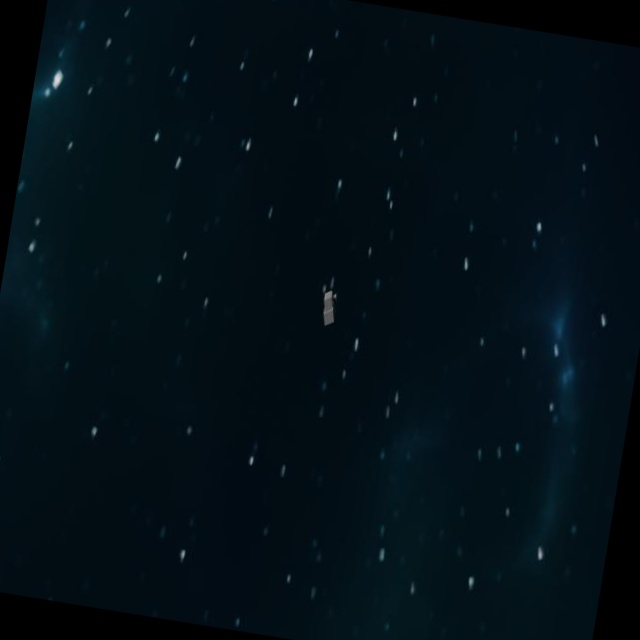large_debris: (316, 284, 342, 333)
